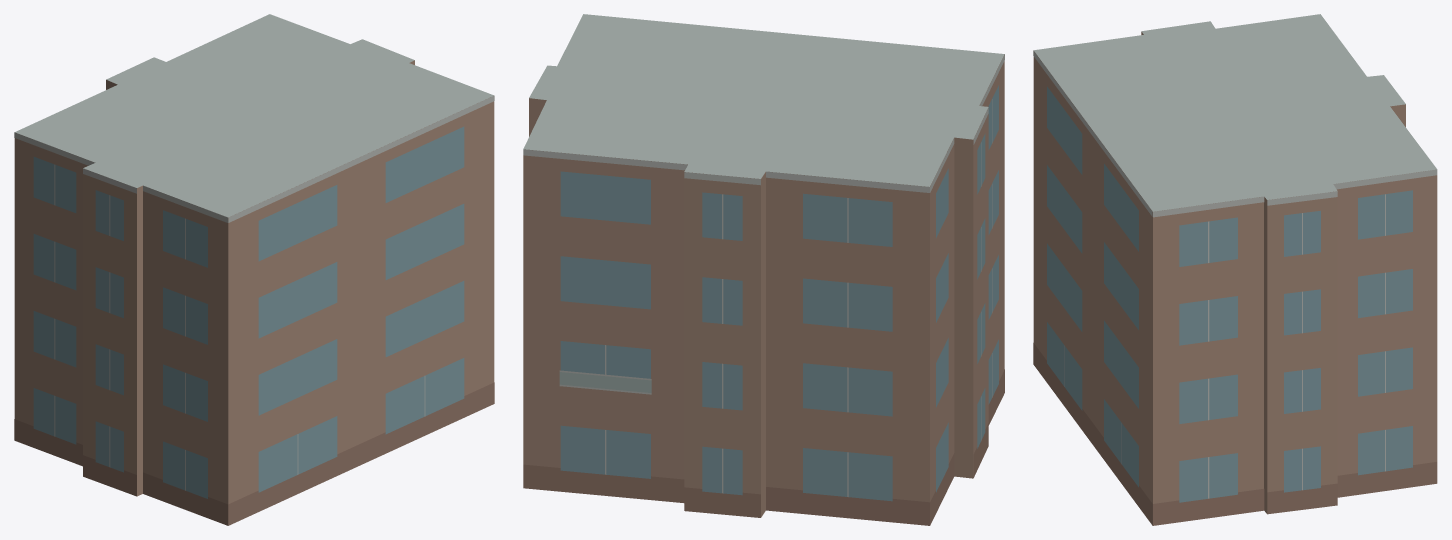
File: survey-upis-32743546.glb
3 renders of one model, left to right at view 1: azimuth 30°, elevation 25°; view 2: azimuth 150°, elevation 25°; view 3: azimuth 270°, elevation 25°, orthographic. The views are drawn at different scales.
Parts seen in each view (by area): view 1: survey-upis-32743546.tmp; view 2: survey-upis-32743546.tmp; view 3: survey-upis-32743546.tmp.
Part boxes in pixels (x1,y1,x2,y2): survey-upis-32743546.tmp: [14, 14, 494, 525]; survey-upis-32743546.tmp: [523, 14, 1004, 525]; survey-upis-32743546.tmp: [1033, 14, 1437, 525].
Size of the model in its own units: 18.03 by 13.35 by 15.57.
